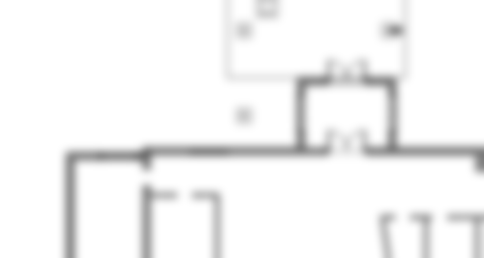double door: (326, 57, 367, 81), (326, 127, 368, 150)
window: (100, 149, 140, 165), (295, 92, 310, 132), (186, 146, 232, 158), (387, 92, 400, 133)
